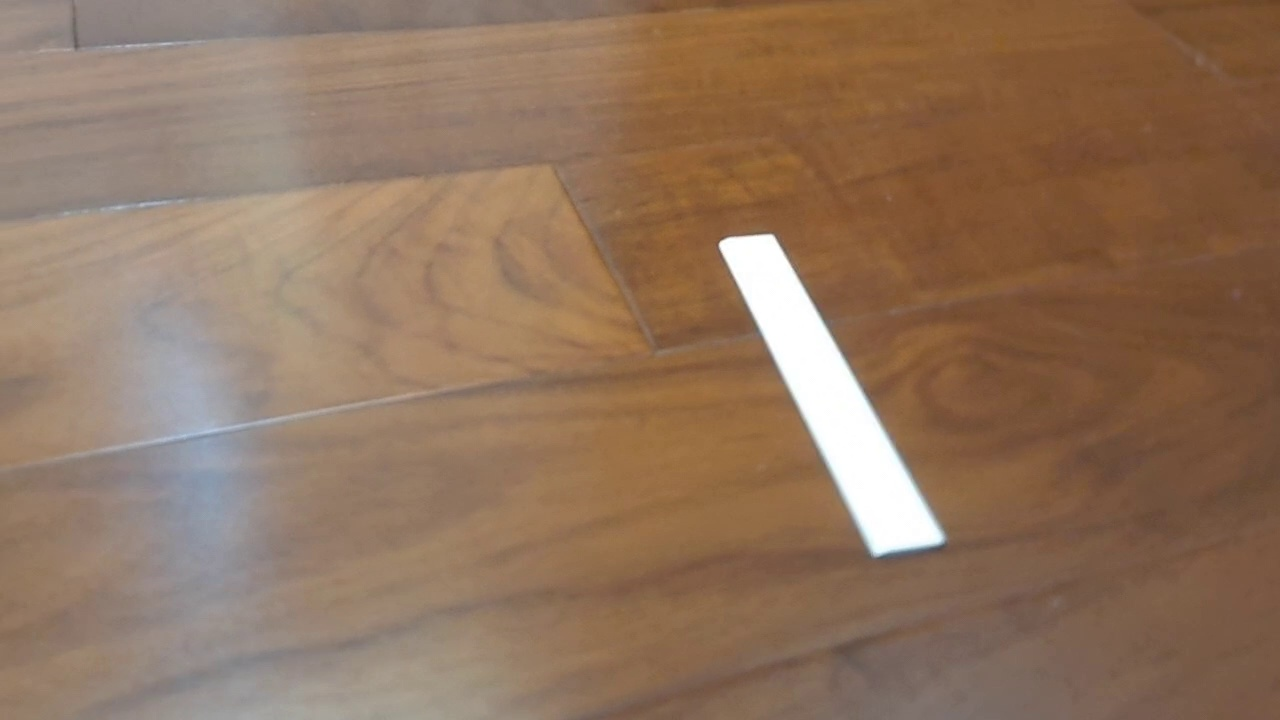ruler: (715, 232, 949, 561)
